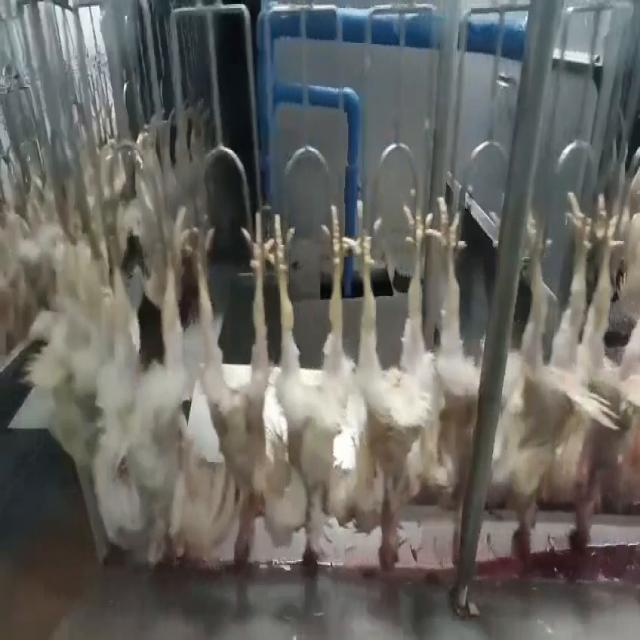chicken: (504, 185, 595, 570), (342, 199, 435, 570), (271, 202, 347, 582), (199, 208, 275, 574), (570, 173, 640, 568), (120, 197, 188, 559), (421, 186, 486, 502), (50, 225, 105, 459)
